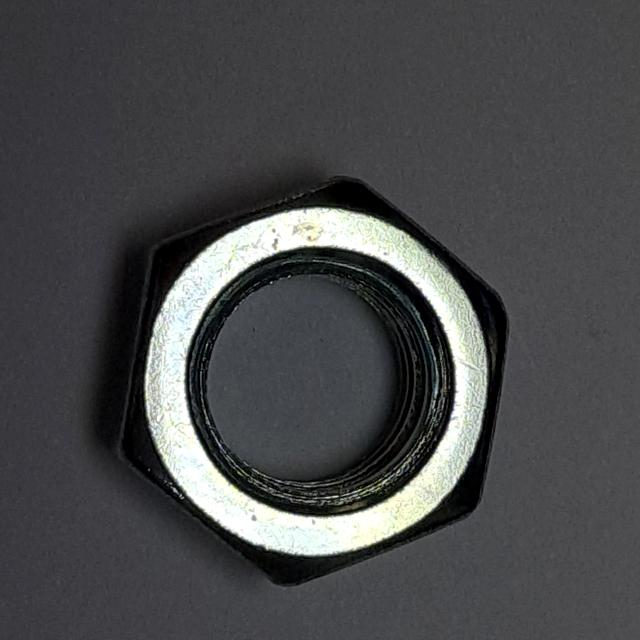Excellent: (94, 162, 521, 601)
